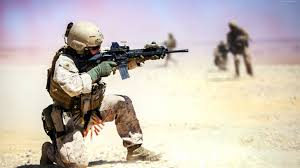gun: (84, 43, 194, 83)
